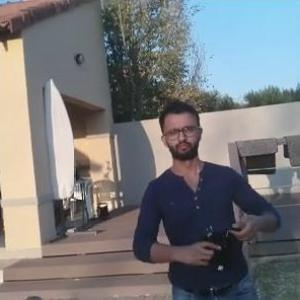follow: (126, 95, 286, 299)
